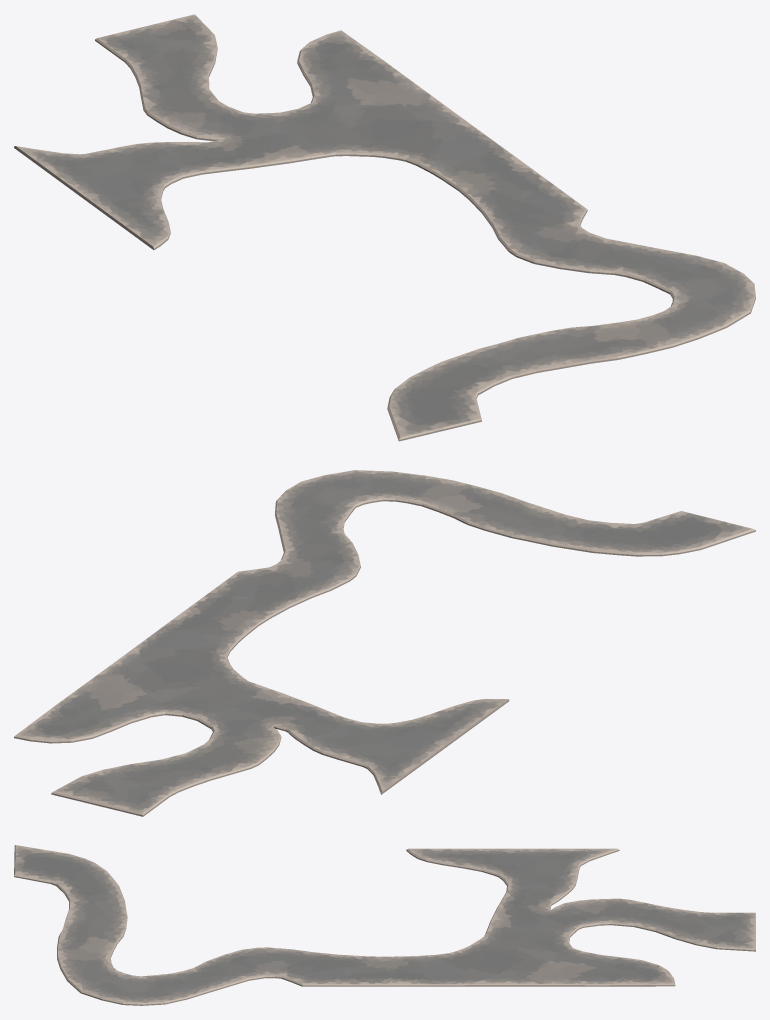
File: PathZone1test.fbx
The picture shows the model from 3 angles, top to bottom: view 1: azimuth 30°, elevation 25°; view 2: azimuth 150°, elevation 25°; view 3: azimuth 270°, elevation 25°; orthographic projection. The views are drawn at different scales.
Parts seen in each view (by area): view 1: Plane; view 2: Plane; view 3: Plane.
Boxes of the visible parts, x1,y1,x2,y2 form: Plane: (14, 14, 755, 441); Plane: (14, 470, 755, 816); Plane: (14, 845, 755, 1005).
Bounding box in the file's own units: 1933 × 12.81 × 3800.
